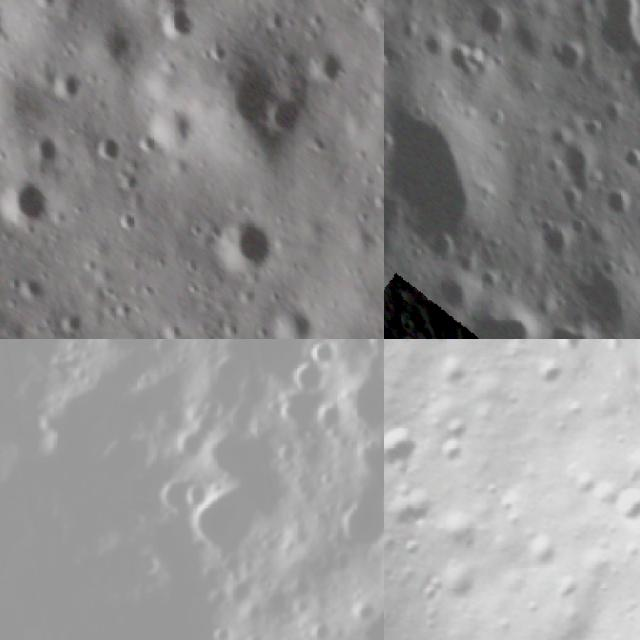crater: (384, 85, 508, 245), (180, 471, 284, 565), (571, 254, 640, 335), (262, 383, 352, 443), (320, 483, 384, 564), (450, 293, 546, 339), (422, 554, 488, 618), (384, 413, 438, 490), (69, 339, 188, 373), (212, 209, 274, 271), (0, 168, 53, 226), (279, 353, 342, 401), (593, 0, 640, 63), (448, 33, 492, 93), (597, 476, 640, 535), (138, 105, 188, 153), (546, 31, 591, 84), (548, 349, 608, 388), (430, 269, 473, 320), (474, 0, 516, 40), (618, 51, 640, 124), (533, 222, 573, 262), (262, 90, 301, 131), (156, 4, 198, 41), (418, 228, 458, 264), (302, 339, 348, 370), (600, 186, 637, 223), (88, 120, 121, 161), (27, 134, 68, 166), (263, 309, 305, 339), (544, 318, 603, 339), (55, 71, 88, 103), (614, 139, 640, 176)
